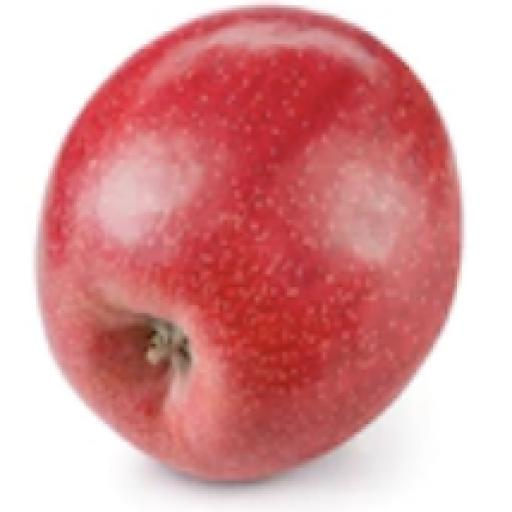apple: (39, 8, 459, 480)
